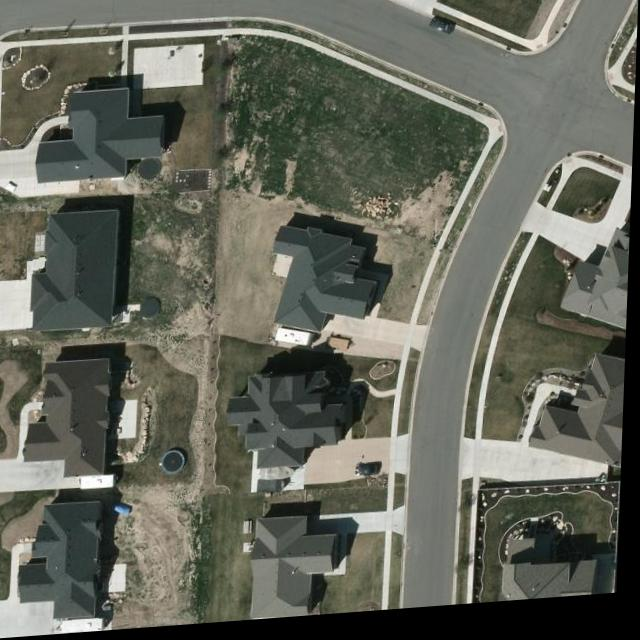vehicle: (429, 24, 456, 43), (358, 468, 385, 485)
